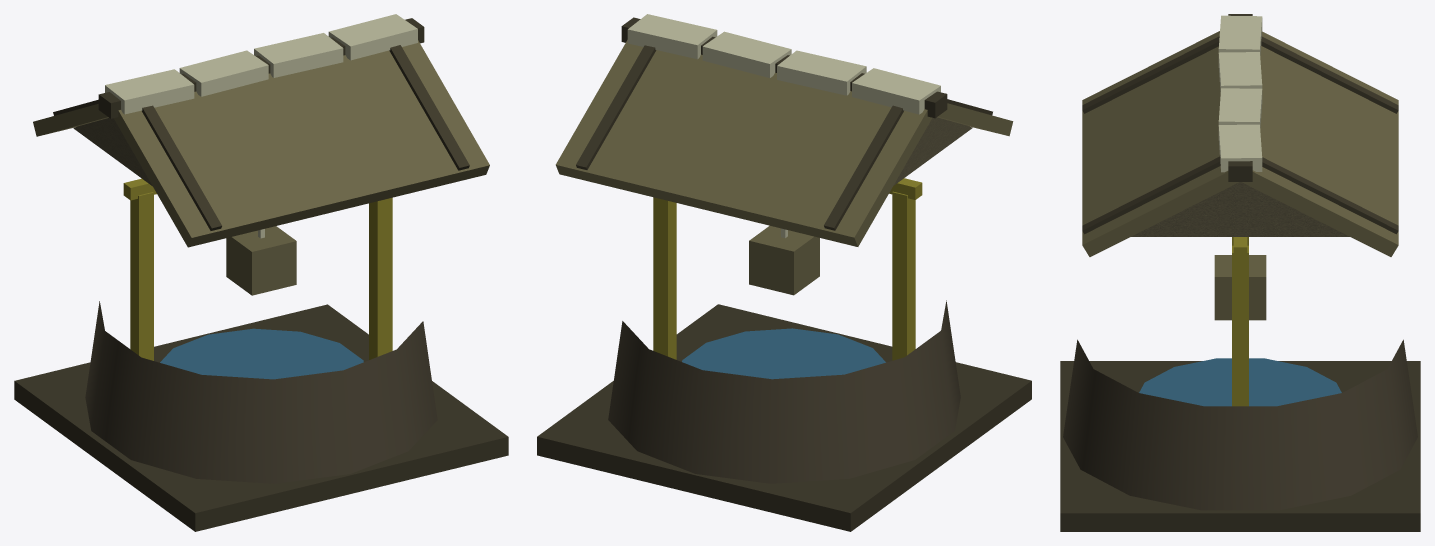
Rendered from baseline.glb.
3 renders of one model, left to right at view 1: azimuth 30°, elevation 25°; view 2: azimuth 150°, elevation 25°; view 3: azimuth 270°, elevation 25°, orthographic.
Visible parts, largest first — view 1: well_roof_ss, well_ring, well_base, well_water, well_bucket, well_post_w, well_post_e, well_roof_cap_2, well_roof_cap_1, well_roof_cap_0, well_roof_cap_3, well_roof_rakees (+4 smaller); view 2: well_roof_sn, well_ring, well_base, well_water, well_bucket, well_post_w, well_post_e, well_roof_cap_1, well_roof_cap_2, well_roof_cap_3, well_roof_cap_0, well_roof_rakeen (+4 smaller); view 3: well_ring, well_roof_sn, well_roof_ss, well_base, well_water, well_roof_ende, well_post_e, well_bucket, well_roof_cap_3, well_roof_cap_1, well_roof_cap_2, well_roof_cap_0 (+5 smaller).
Part boxes in pixels (left/top/right/bottom): well_roof_ss: left=114, top=40, right=489, bottom=247; well_ring: left=85, top=301, right=437, bottom=483; well_base: left=14, top=304, right=508, bottom=531; well_water: left=160, top=328, right=363, bottom=379; well_bucket: left=226, top=226, right=296, bottom=295; well_post_w: left=130, top=192, right=153, bottom=360; well_post_e: left=369, top=197, right=392, bottom=359; well_roof_cap_2: left=254, top=33, right=343, bottom=77; well_roof_cap_1: left=179, top=50, right=268, bottom=96; well_roof_cap_0: left=105, top=69, right=194, bottom=114; well_roof_cap_3: left=328, top=14, right=417, bottom=60; well_roof_rakees: left=389, top=45, right=469, bottom=170; well_roof_sn: left=555, top=40, right=932, bottom=246; well_ring: left=608, top=300, right=960, bottom=483; well_base: left=537, top=304, right=1031, bottom=531; well_water: left=682, top=328, right=885, bottom=379; well_bucket: left=749, top=226, right=819, bottom=295; well_post_w: left=892, top=191, right=915, bottom=360; well_post_e: left=653, top=197, right=676, bottom=359; well_roof_cap_1: left=777, top=50, right=866, bottom=95; well_roof_cap_2: left=702, top=31, right=791, bottom=77; well_roof_cap_3: left=627, top=14, right=717, bottom=59; well_roof_cap_0: left=852, top=68, right=940, bottom=114; well_roof_rakeen: left=576, top=45, right=656, bottom=169; well_ring: left=1063, top=339, right=1417, bottom=510; well_roof_sn: left=1242, top=31, right=1398, bottom=256; well_roof_ss: left=1082, top=31, right=1238, bottom=256; well_base: left=1060, top=361, right=1420, bottom=531; well_water: left=1139, top=358, right=1341, bottom=406; well_roof_ende: left=1131, top=182, right=1349, bottom=236; well_post_e: left=1232, top=245, right=1248, bottom=406; well_bucket: left=1214, top=255, right=1266, bottom=320; well_roof_cap_3: left=1218, top=124, right=1262, bottom=172; well_roof_cap_1: left=1218, top=52, right=1262, bottom=91; well_roof_cap_2: left=1218, top=88, right=1262, bottom=127; well_roof_cap_0: left=1218, top=15, right=1262, bottom=55.
Size of the model in its own units: 2.1 by 2.37 by 2.1.
2 materials, 1 textured.
